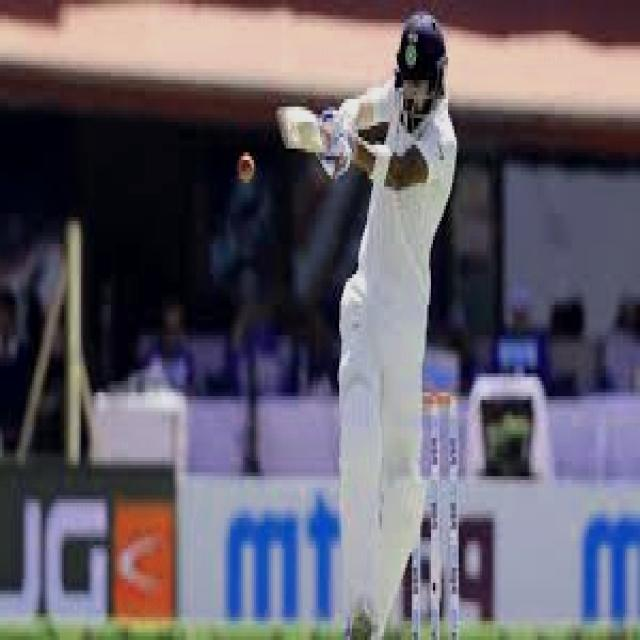toe: (273, 108, 298, 152)
